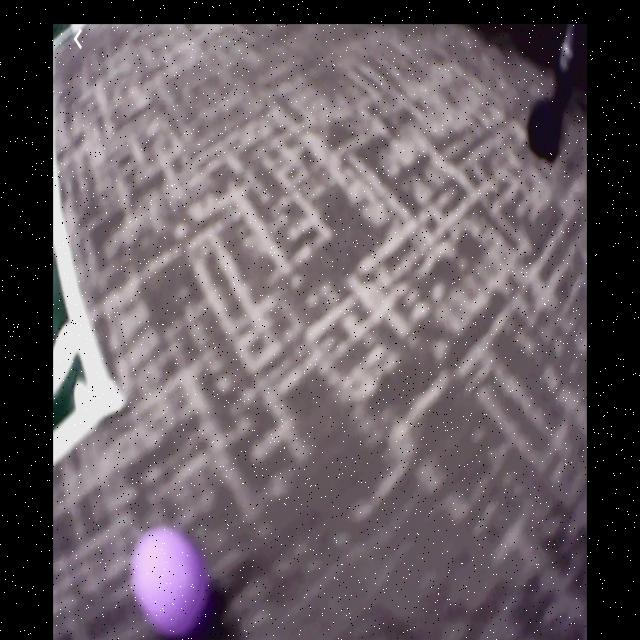ball: (134, 527, 209, 638)
